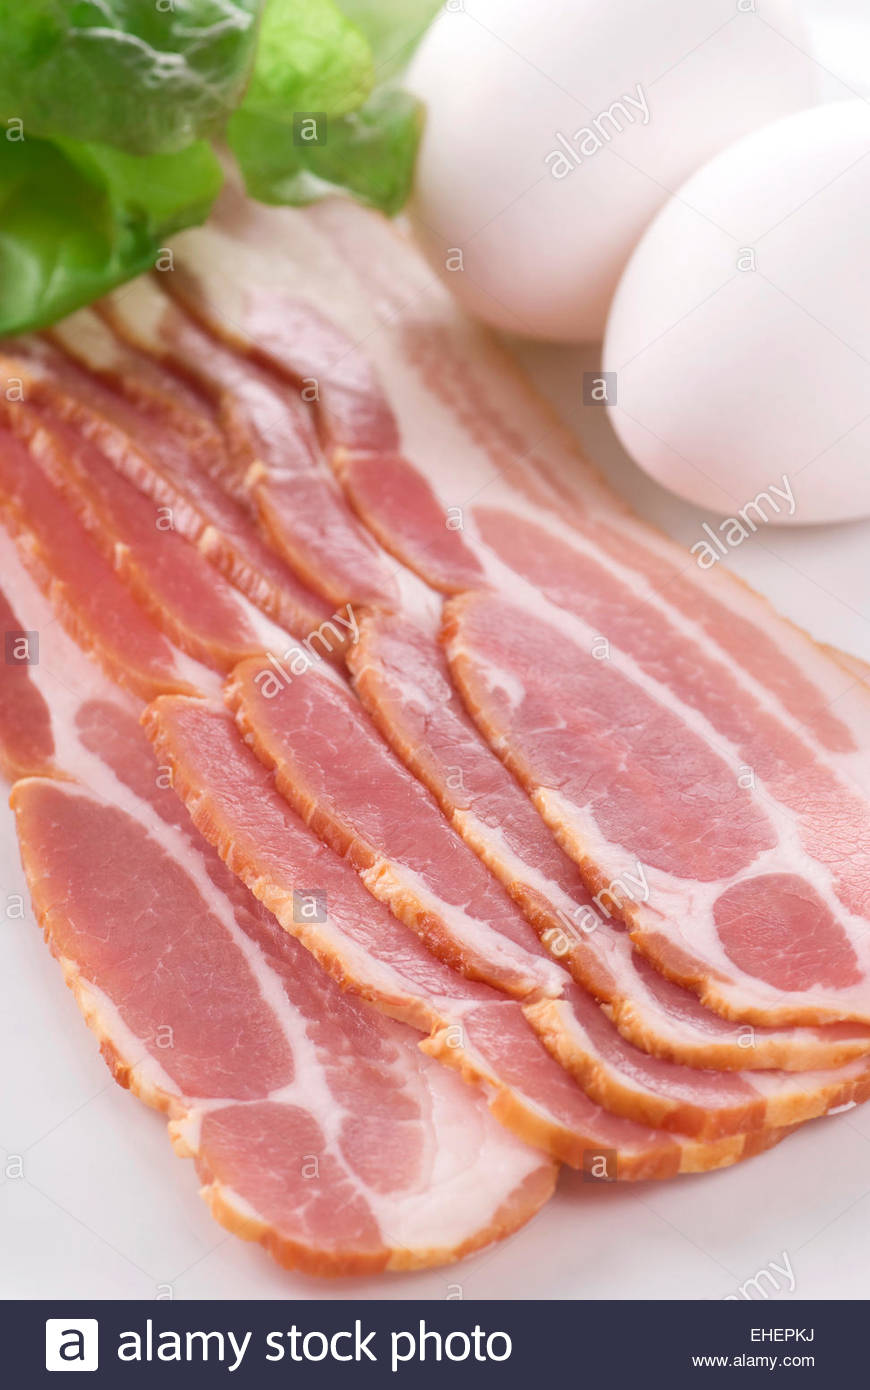bacon: (59, 149, 851, 1262)
